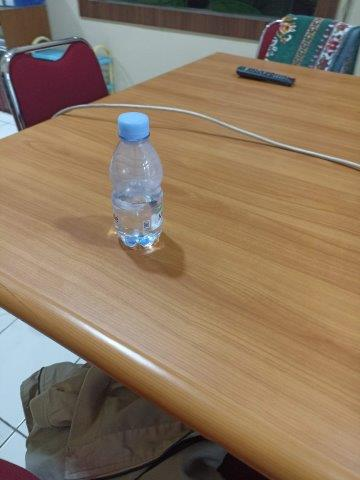botolplastik: (109, 111, 164, 250)
